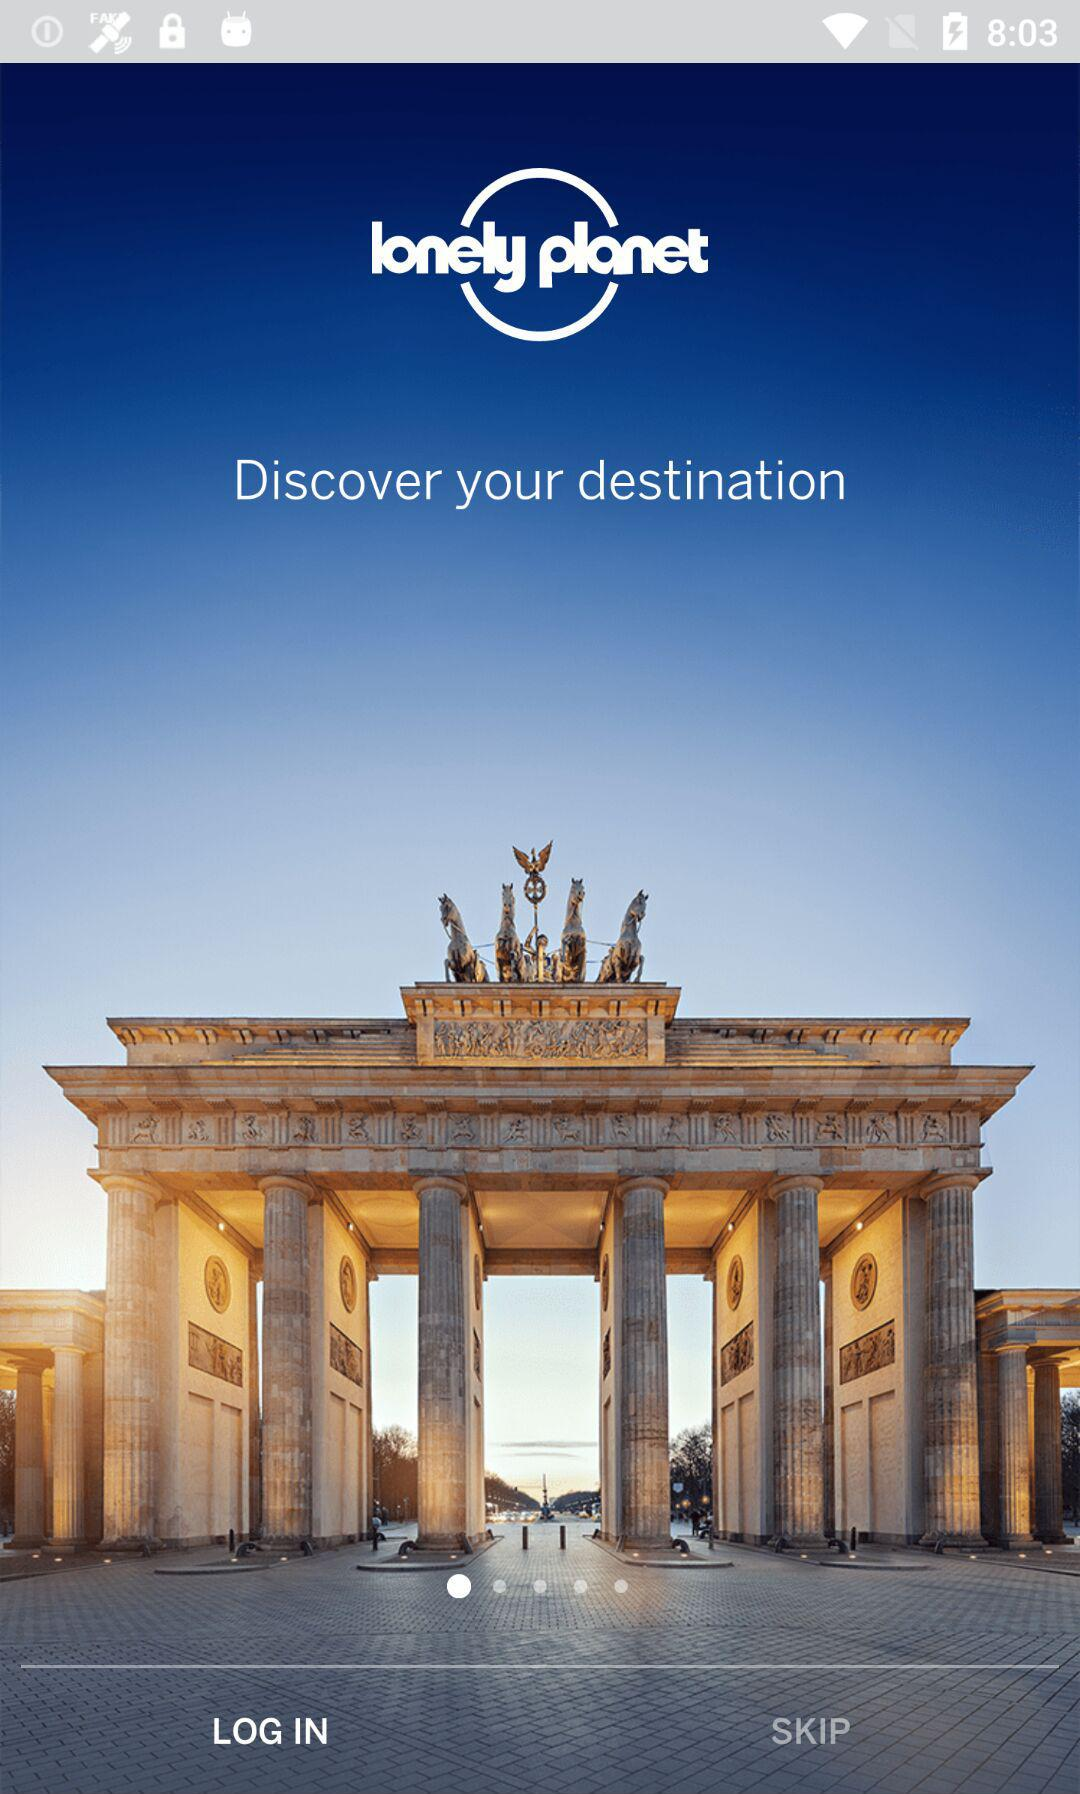BackgroundImage: (1, 64, 1080, 1794)
Image: (370, 167, 710, 343)
PageIndicator: (445, 1571, 632, 1601)
Text: (234, 457, 847, 514), (213, 1713, 331, 1748), (773, 1715, 853, 1748)
UpperTaskBar: (1, 1, 1080, 64)
